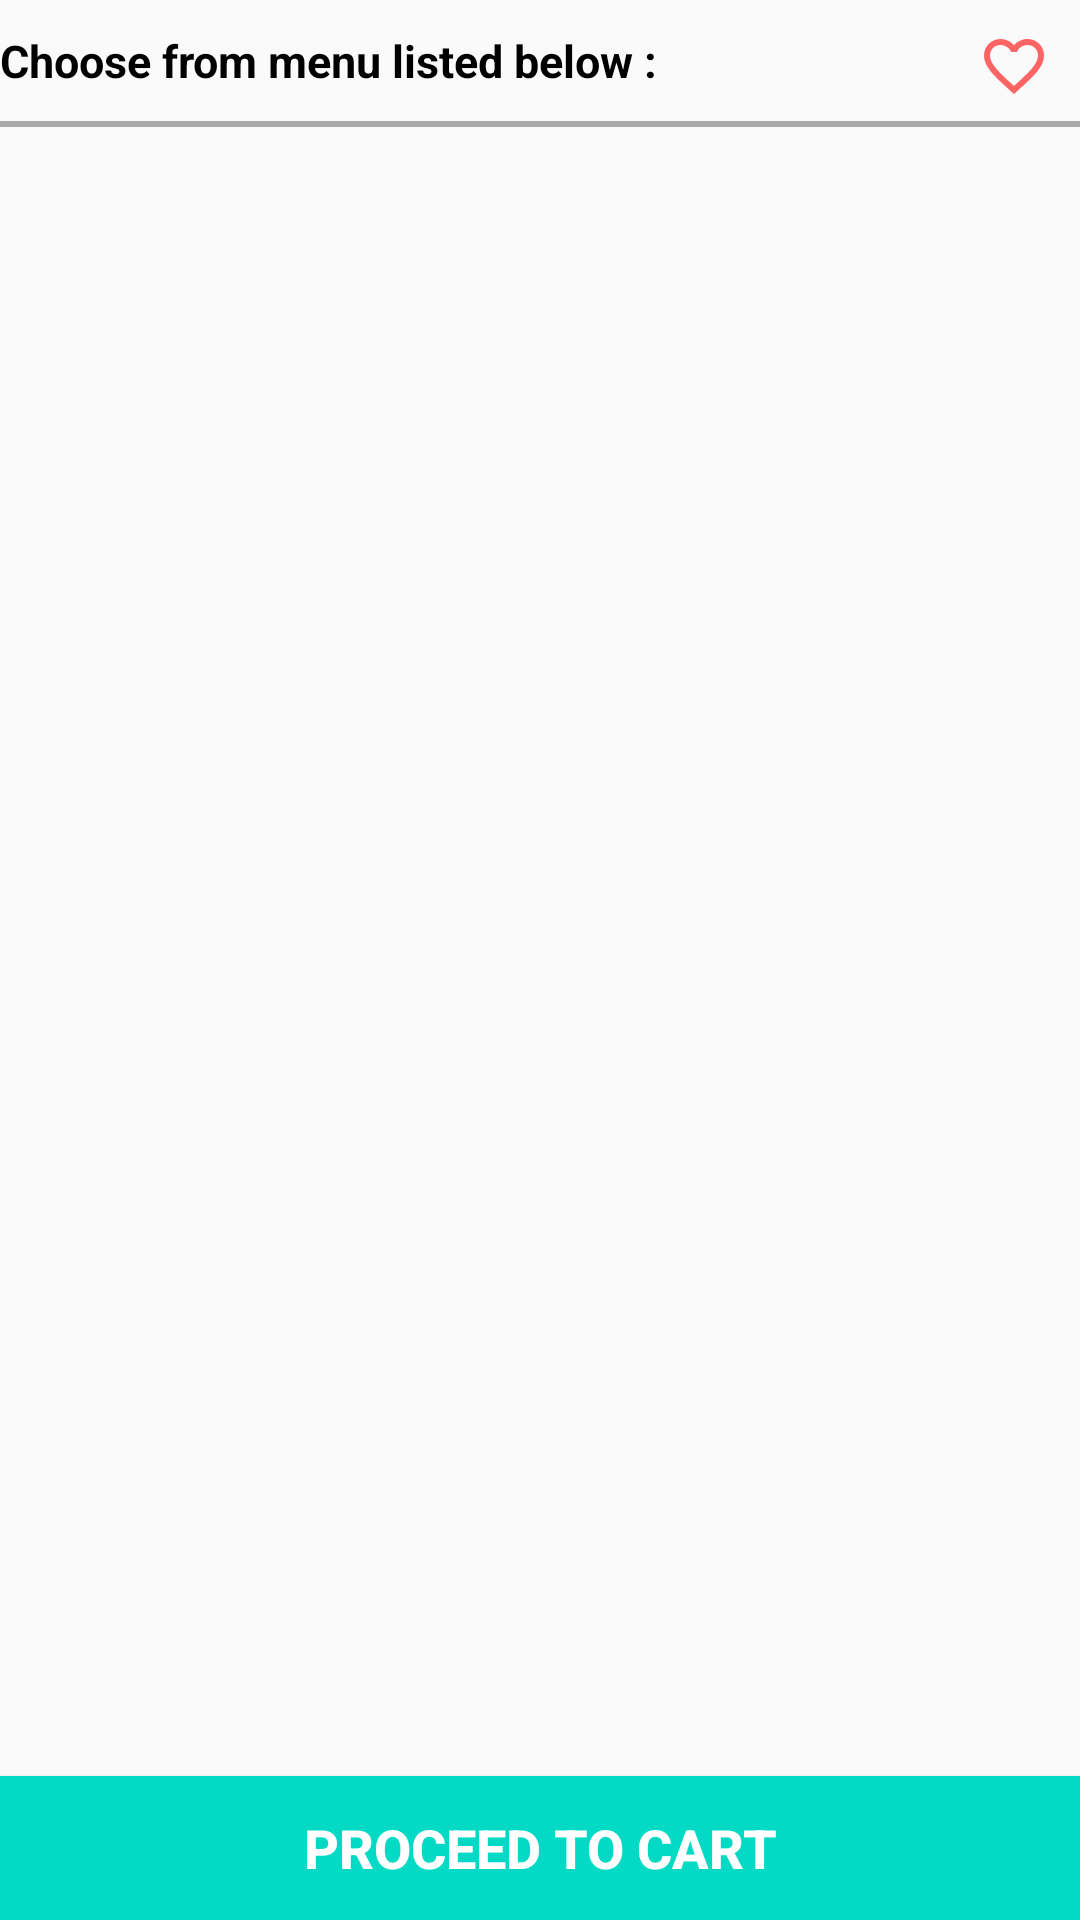

Named icons in this screenshot (1080w x 1920h) and their centers, [x,y]:
favourite border: [1014,66]
